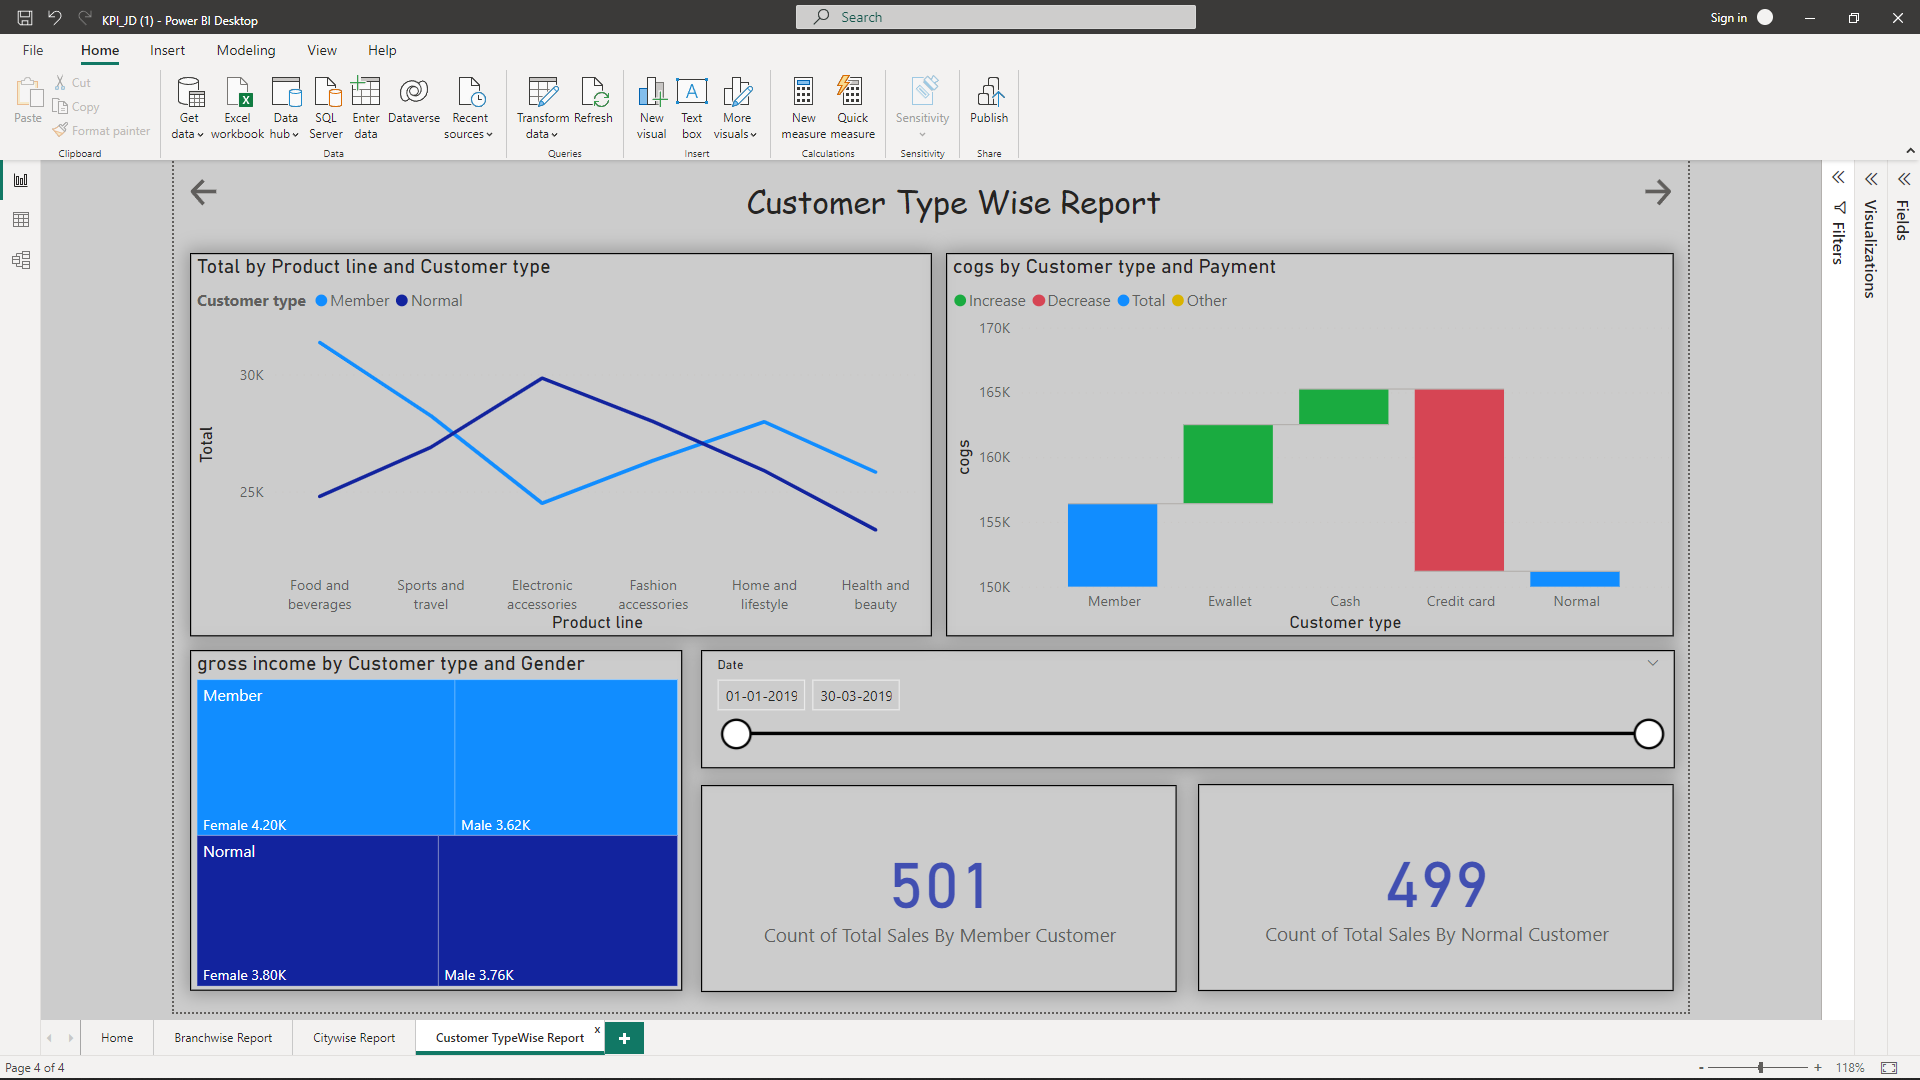

This screenshot's page, from the dashboard's own definition file:
{"tool":"powerbi","page":{"name":"Customer TypeWise Report","canvas":[1280,720],"ordinal":3},"visuals":[{"type":"actionButton","box":[9.8,12.2,31.8,30.6],"z":0},{"type":"actionButton","box":[1238.3,12.2,41.6,30.6],"z":1000},{"type":"textbox","box":[229.8,12.2,858.1,50.1],"z":2000},{"type":"lineChart","fields":{"Series":["supersales - powr bi.Customer type"],"Category":["supersales - powr bi.Product line"],"Y":["Sum(supersales - powr bi.Total)"]},"box":[13.4,78.2,627.1,323.9],"z":3000},{"type":"waterfallChart","fields":{"Category":["supersales - powr bi.Customer type"],"Y":["Sum(supersales - powr bi.cogs)"],"Breakdown":["supersales - powr bi.Payment"]},"box":[665,36.2,615,323.5],"z":4000},{"type":"card","fields":{"Values":["CountNonNull(supersales - powr bi.Total Sales By Member Customer)"]},"box":[445,528.1,402.2,174.8],"z":5000},{"type":"card","fields":{"Values":["CountNonNull(supersales - powr bi.Total Sales By Normal Customer)"]},"box":[865.5,527.7,402.3,175],"z":6000},{"type":"treemap","fields":{"Group":["supersales - powr bi.Customer type"],"Values":["Sum(supersales - powr bi.gross income)"],"Details":["supersales - powr bi.Gender"]},"box":[13.4,414.4,415.6,288.5],"z":7000},{"type":"slicer","fields":{"Values":["supersales - powr bi.Date"]},"box":[445,414.4,822.7,100.2],"z":8000}]}

Visuals, with their boxes on the page's 1280x720 design canvas (x1, y1, x2, y2). These are canvas units, not pixel positions in the 1920x1080 screenshot, which may show the page scaled, cropped or inside an application window:
actionButton: locate(10, 12, 42, 43)
actionButton: locate(1238, 12, 1280, 43)
textbox: locate(230, 12, 1088, 62)
lineChart - supersales - powr bi.Customer type x supersales - powr bi.Product line: locate(13, 78, 640, 402)
waterfallChart - supersales - powr bi.Customer type x Sum(supersales - powr bi.cogs): locate(665, 36, 1280, 360)
card - CountNonNull(supersales - powr bi.Total Sales By Member Customer): locate(445, 528, 847, 703)
card - CountNonNull(supersales - powr bi.Total Sales By Normal Customer): locate(866, 528, 1268, 703)
treemap - supersales - powr bi.Customer type x Sum(supersales - powr bi.gross income): locate(13, 414, 429, 703)
slicer - supersales - powr bi.Date: locate(445, 414, 1268, 515)
